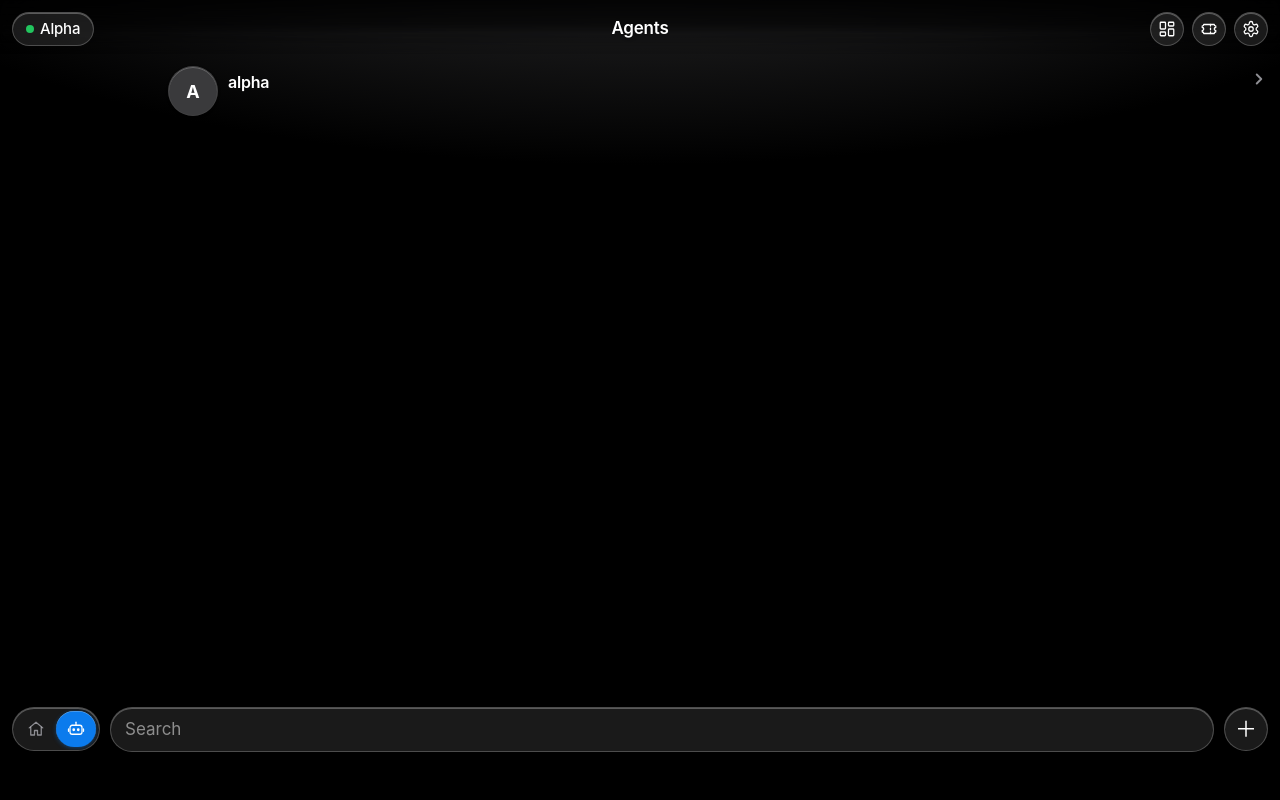
Scenario: Add Agent → Other servers (HM5, flag on) › one section per other server, each read with its own login; no switch, no fallback; every state
The width and height of the screenshot is (1280, 800).
Click the button with test id "list-tab-home". click: (36, 729)
box: [16, 711, 56, 747]
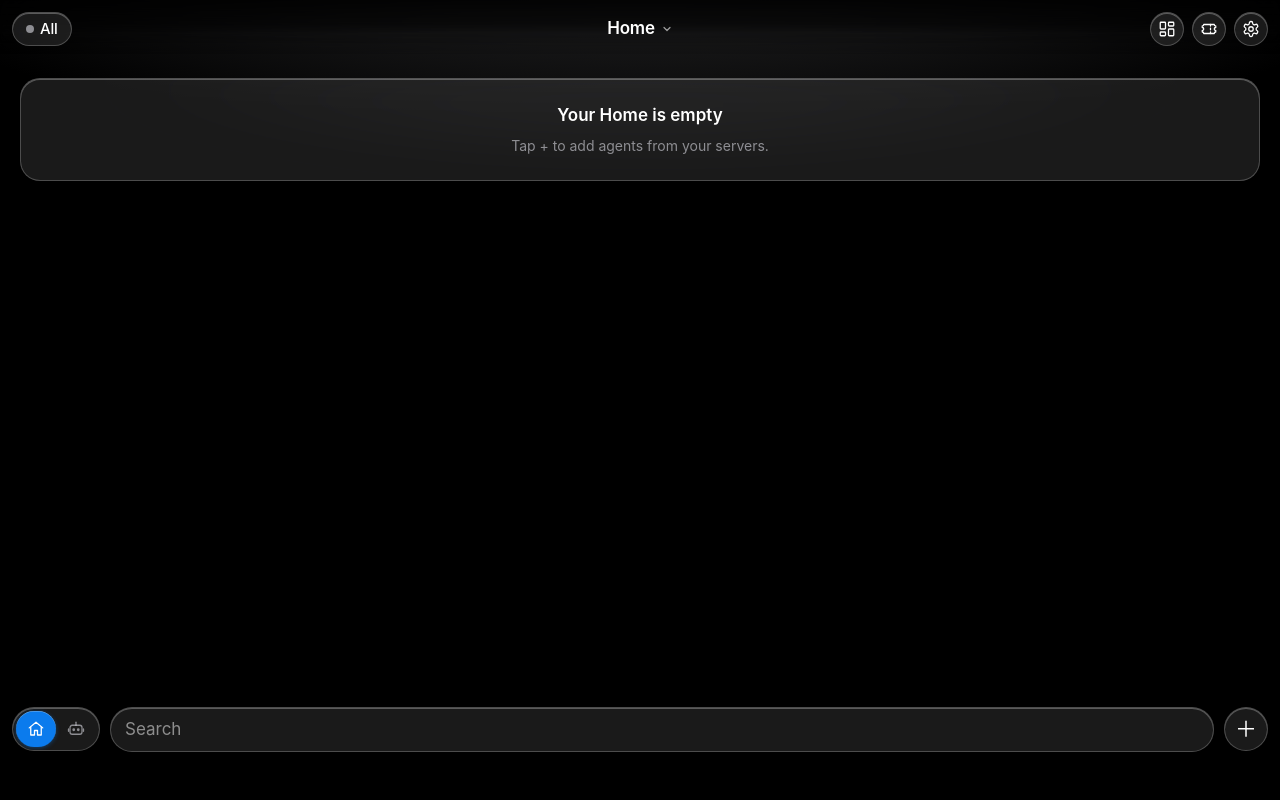
Click the button named "Add agent". click: (1246, 729)
box: [1224, 707, 1268, 751]
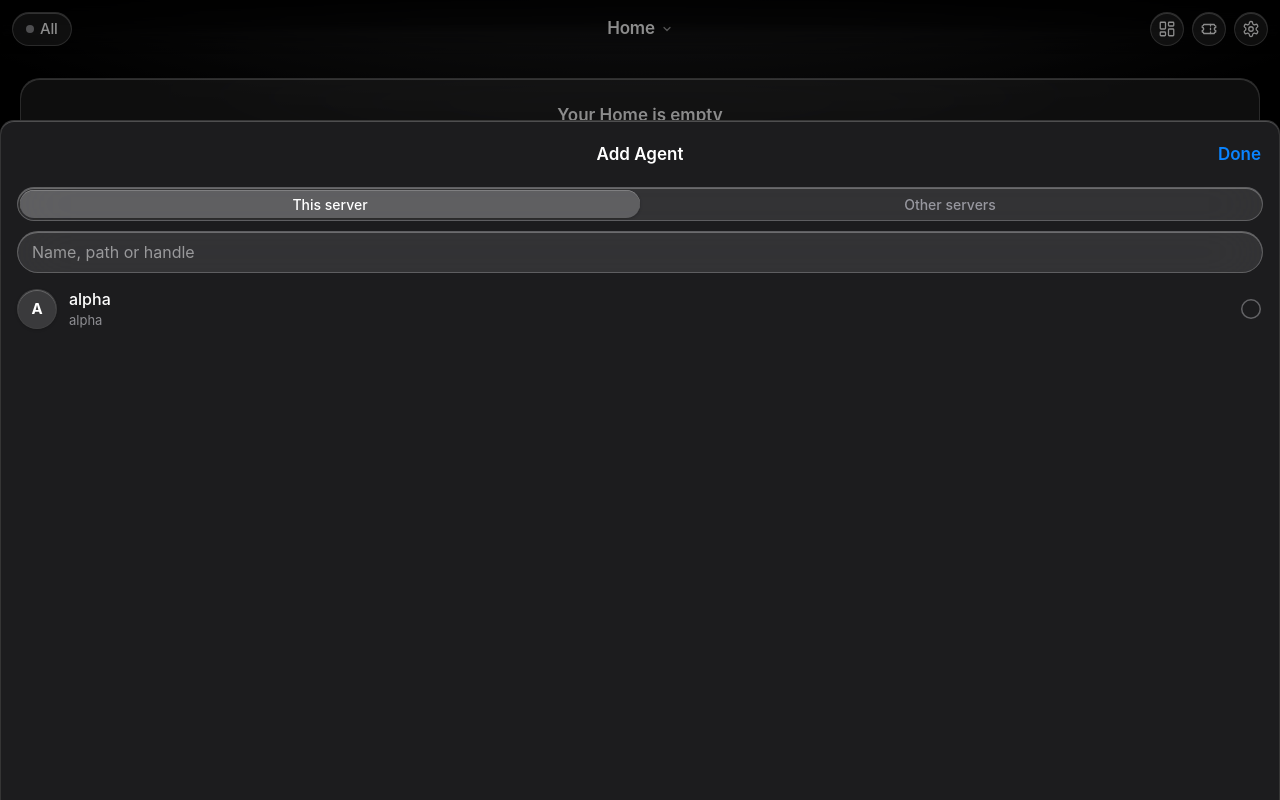
Click the button with test id "add-agent-seg-other". click: (950, 204)
box: [640, 190, 1260, 218]
(page scrolled)
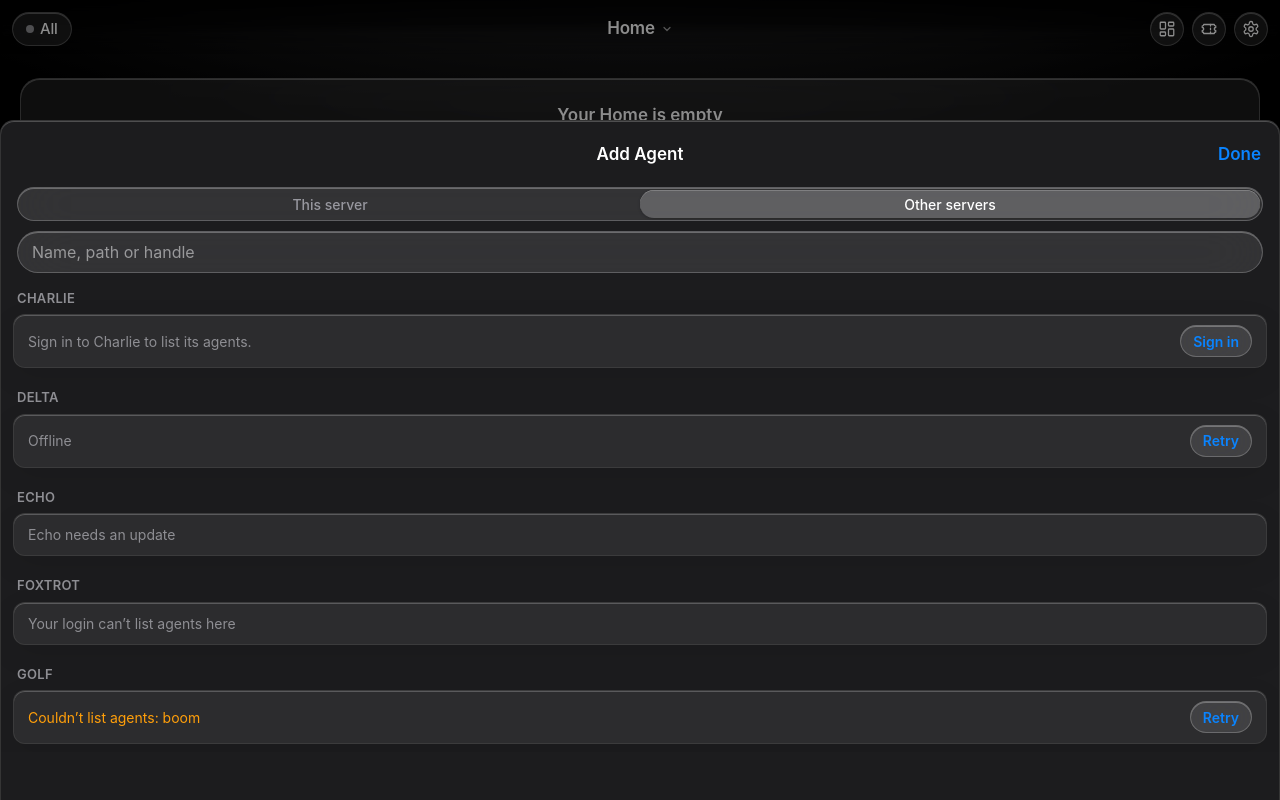
Expected: the element with test id "add-agent-server-status-e" reads "Echo needs an update", [28, 526, 176, 543]
Expected: the element with test id "add-agent-server-status-f" shows "can’t list agents", [28, 614, 236, 632]
Expected: the element with test id "add-agent-server-status-g" shows "Couldn’t list agents", [28, 708, 200, 726]
Click the button with test id "add-agent-server-action-g". click: (1221, 717)
box: [1190, 701, 1252, 733]
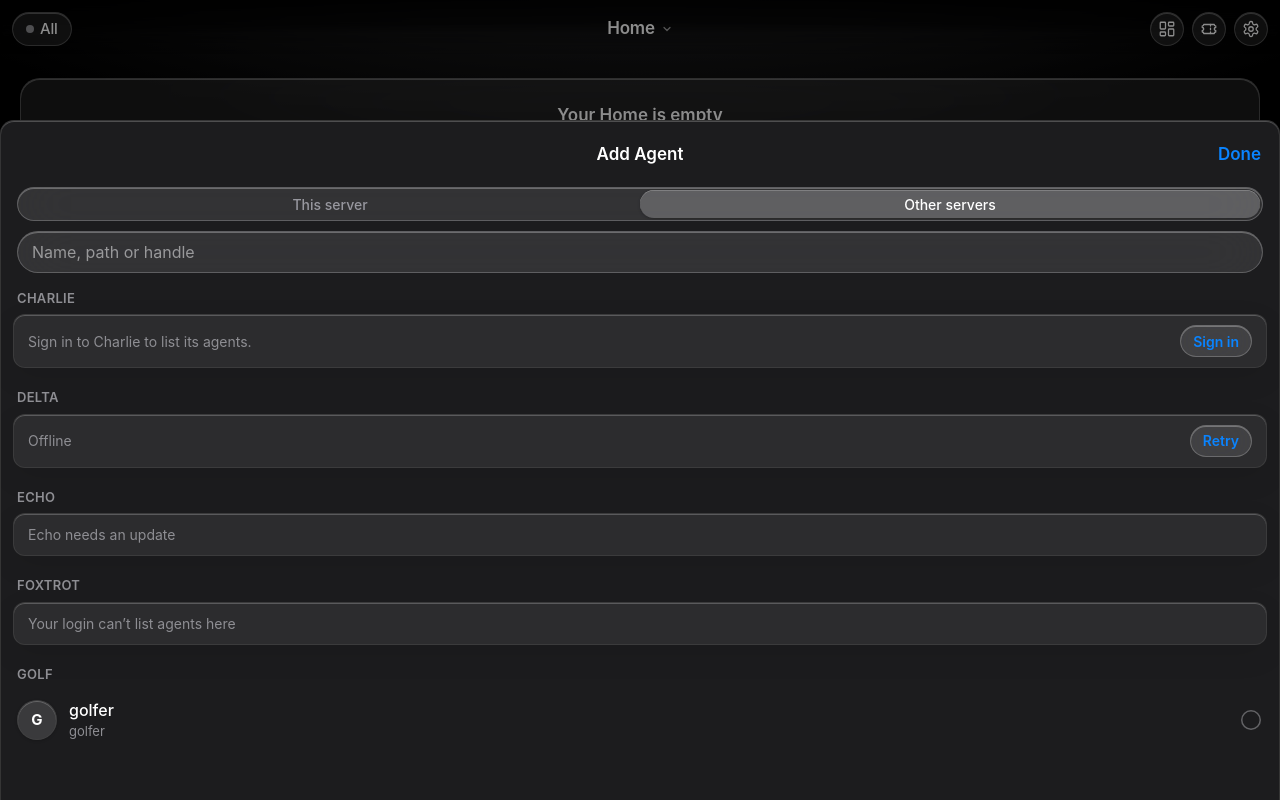
Click the button with test id "add-agent-server-action-c". click: (1216, 341)
box: [1180, 325, 1252, 357]
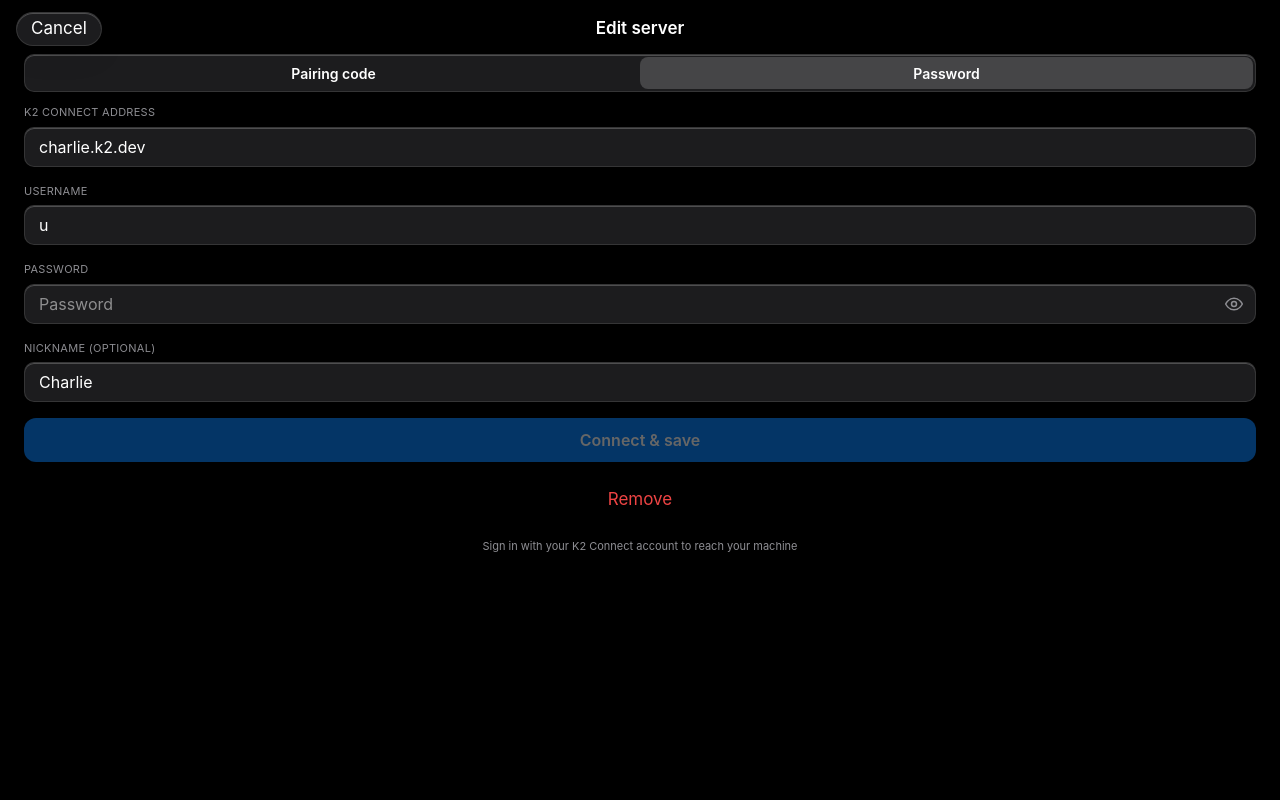
Expected: the field showing "charlie.k2.dev" is shown, [24, 126, 1256, 166]
